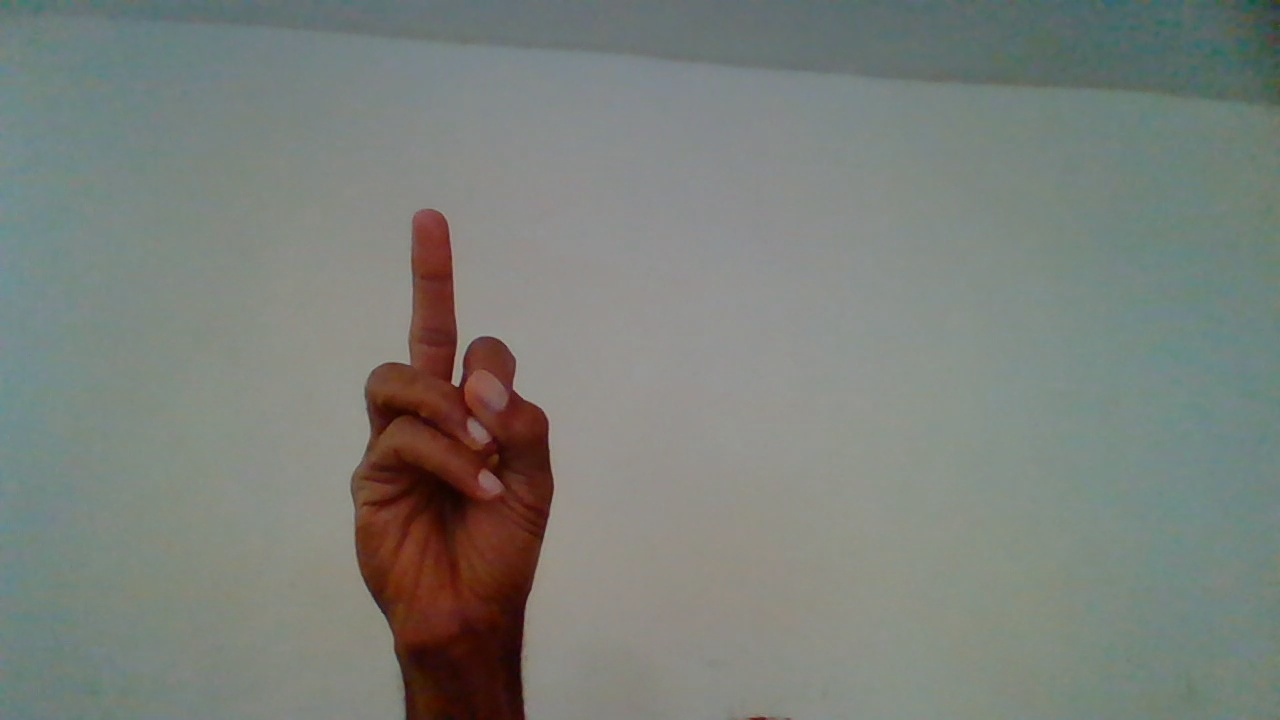he: (340, 205, 588, 711)
